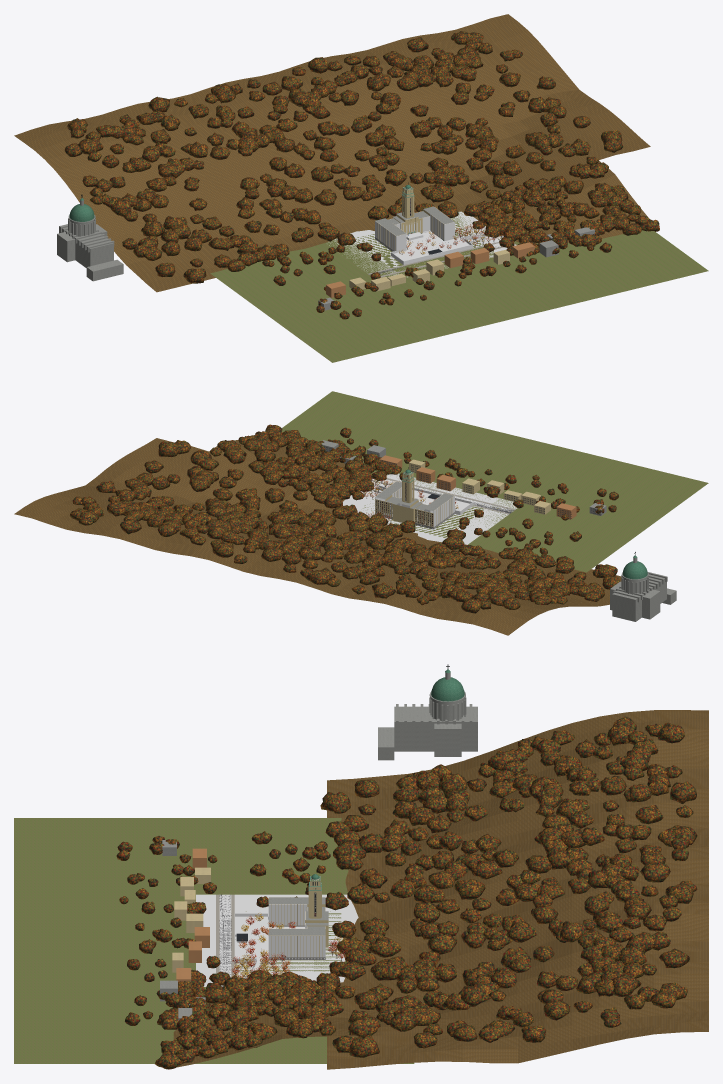
Rendered from campus.glb.
3 renders of one model, top to bottom at view 1: azimuth 30°, elevation 25°; view 2: azimuth 150°, elevation 25°; view 3: azimuth 270°, elevation 25°, orthographic. The views are drawn at different scales.
Parts seen in each view (by area): view 1: sol_canopee, sol_sousbois, sol_gazon, sol_beton, COL_sol, sol_brique, sol_brique_rouge, bat_brique, bat_beton; view 2: sol_canopee, sol_gazon, sol_sousbois, COL_sol, sol_beton, bat_brique, sol_brique, sol_brique_rouge, bat_beton, sol_fenetre_sombre; view 3: sol_canopee, sol_sousbois, sol_gazon, sol_beton, COL_sol, feuil_feuilles, sol_brique, bat_brique, COL_facade_7, sol_brique_rouge, bat_beton, COL_facade_10 (+1 smaller).
Boxes of the visible parts, x1,y1,x2,y2 form: sol_canopee: [64, 31, 659, 319]; sol_sousbois: [14, 14, 650, 292]; sol_gazon: [210, 212, 708, 362]; sol_beton: [57, 200, 594, 310]; COL_sol: [328, 211, 516, 277]; sol_brique: [349, 249, 509, 291]; sol_brique_rouge: [326, 242, 534, 297]; bat_brique: [377, 188, 443, 250]; bat_beton: [375, 206, 453, 235]; sol_canopee: [70, 424, 620, 613]; sol_gazon: [282, 391, 708, 572]; sol_sousbois: [14, 438, 621, 635]; COL_sol: [343, 473, 517, 544]; sol_beton: [318, 440, 676, 621]; bat_brique: [375, 472, 452, 527]; sol_brique: [409, 459, 550, 514]; sol_brique_rouge: [379, 455, 576, 519]; bat_beton: [375, 481, 453, 510]; sol_fenetre_sombre: [324, 446, 601, 518]; sol_canopee: [116, 716, 697, 1069]; sol_sousbois: [173, 710, 708, 1069]; sol_gazon: [14, 818, 414, 1063]; sol_beton: [160, 672, 477, 1020]; COL_sol: [196, 894, 358, 986]; feuil_feuilles: [231, 913, 347, 979]; sol_brique: [172, 867, 210, 972]; bat_brique: [271, 880, 328, 957]; COL_facade_7: [269, 936, 325, 959]; sol_brique_rouge: [176, 848, 209, 981]; bat_beton: [269, 897, 328, 935]; COL_facade_10: [268, 904, 307, 925].
Bounding box in the file's own units: 924 × 120 × 764.
53 materials, 52 textured.
